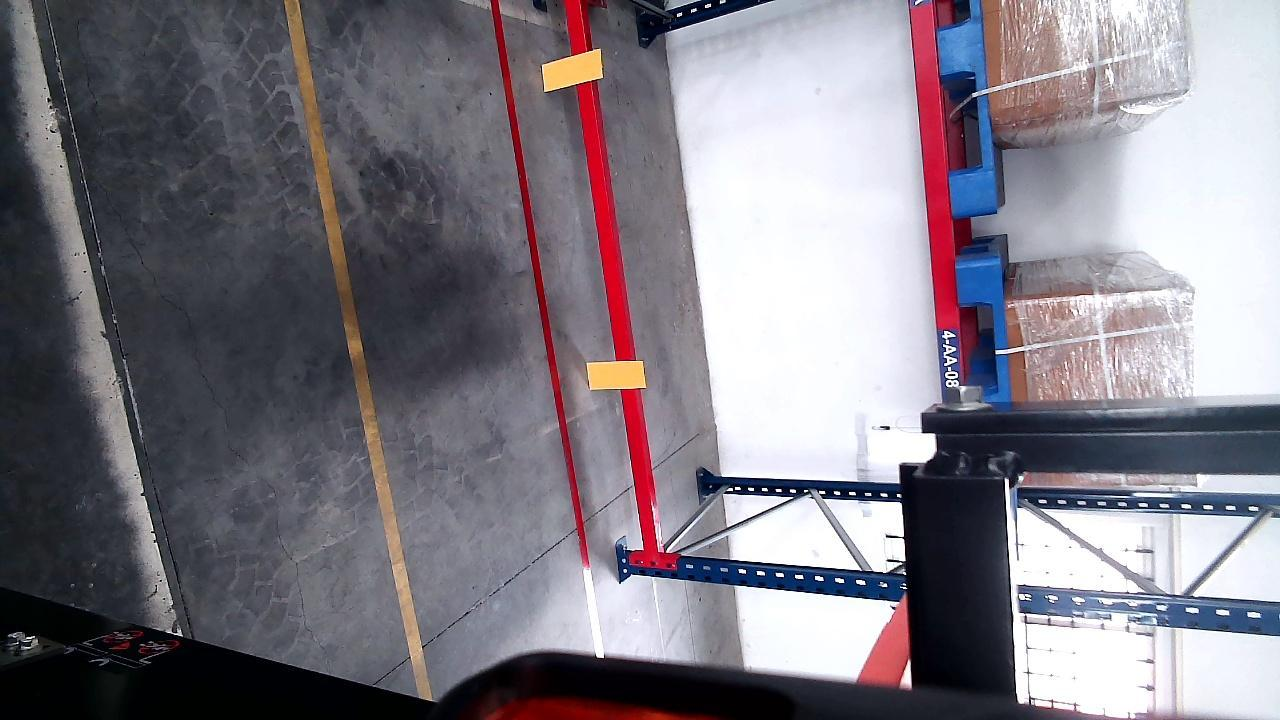red_line: (494, 0, 589, 568)
yellow_line: (283, 0, 435, 707)
